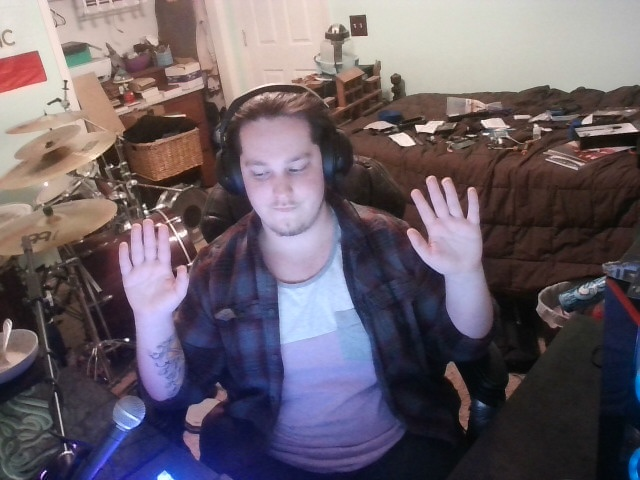great: (79, 173, 492, 325)
